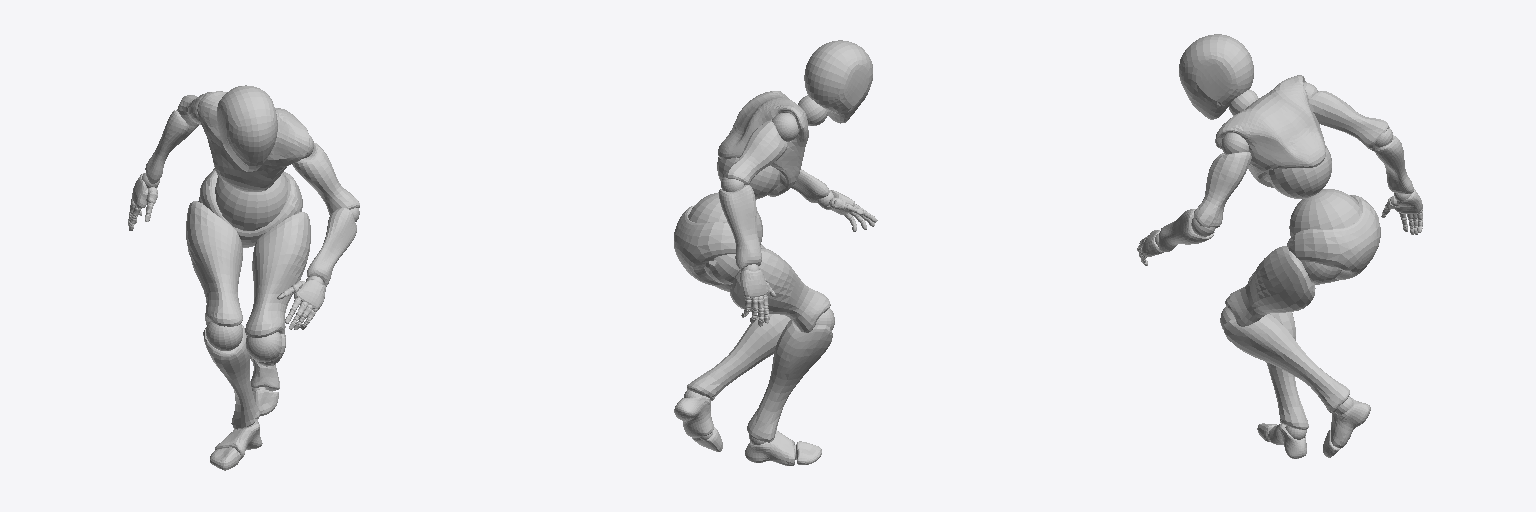
The picture shows the model from 3 angles: view 1: azimuth 30°, elevation 25°; view 2: azimuth 150°, elevation 25°; view 3: azimuth 270°, elevation 25°; orthographic projection.
Visible parts, largest first — view 1: Beta_Surface, Beta_Joints; view 2: Beta_Surface, Beta_Joints; view 3: Beta_Surface, Beta_Joints.
Part boxes in pixels (bbox=[...]): Beta_Surface: bbox=[128, 85, 359, 470]; Beta_Joints: bbox=[128, 106, 359, 460]; Beta_Surface: bbox=[674, 40, 877, 465]; Beta_Joints: bbox=[684, 95, 872, 459]; Beta_Surface: bbox=[1137, 34, 1422, 458]; Beta_Joints: bbox=[1138, 82, 1422, 442].
Bounding box in the file's own units: 0.4895 × 1.42 × 0.9261.